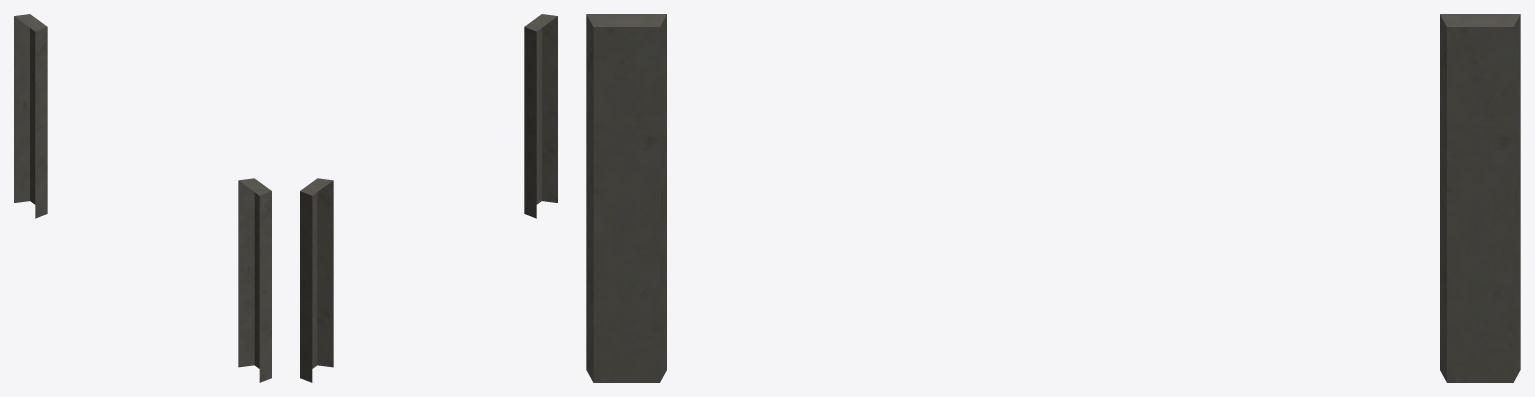
Rendered from steel-post--2.gltf.
3 renders of one model, left to right at view 1: azimuth 30°, elevation 25°; view 2: azimuth 150°, elevation 25°; view 3: azimuth 270°, elevation 25°, orthographic. The views are drawn at different scales.
Parts seen in each view (by area): view 1: Plane.007; view 2: Plane.007; view 3: Plane.007.
Part boxes in pixels (<box>): Plane.007: <box>14,14,271,382</box>; Plane.007: <box>300,14,557,382</box>; Plane.007: <box>586,14,1520,382</box>.
Size of the model in its own units: 0.2379 by 3 by 7.14.
1 material, 1 textured.
